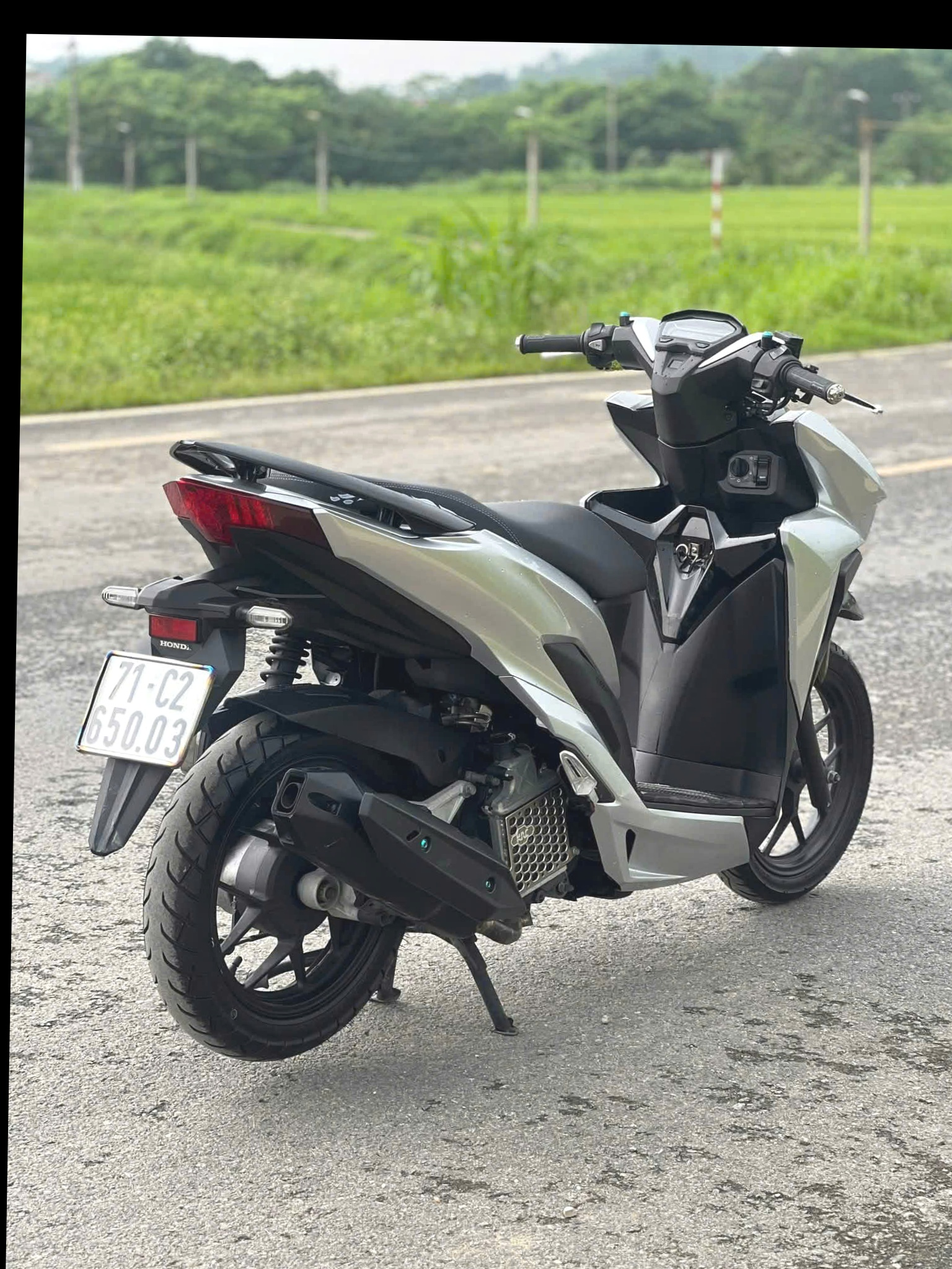Bien-so: (92, 620, 229, 754)
